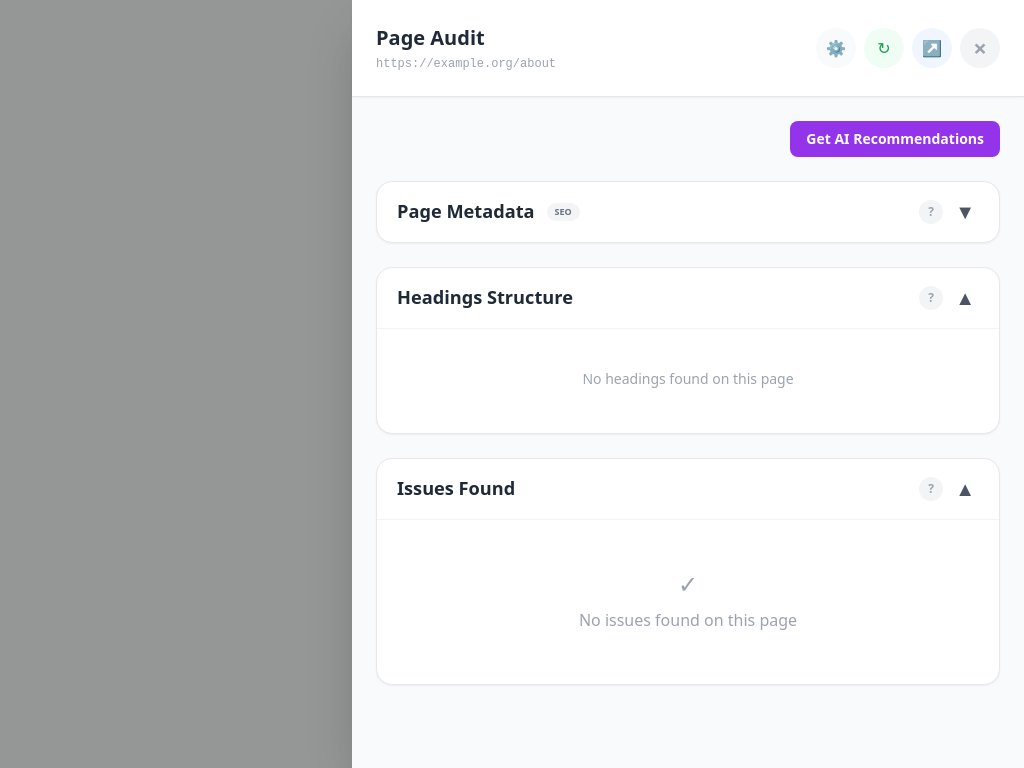
Scenario: D5 the re-check button reports its outcome › renders what the re-check resolved
Step 1. Click the button named "Re-check this page" → (884, 48), box [864,28,904,68]
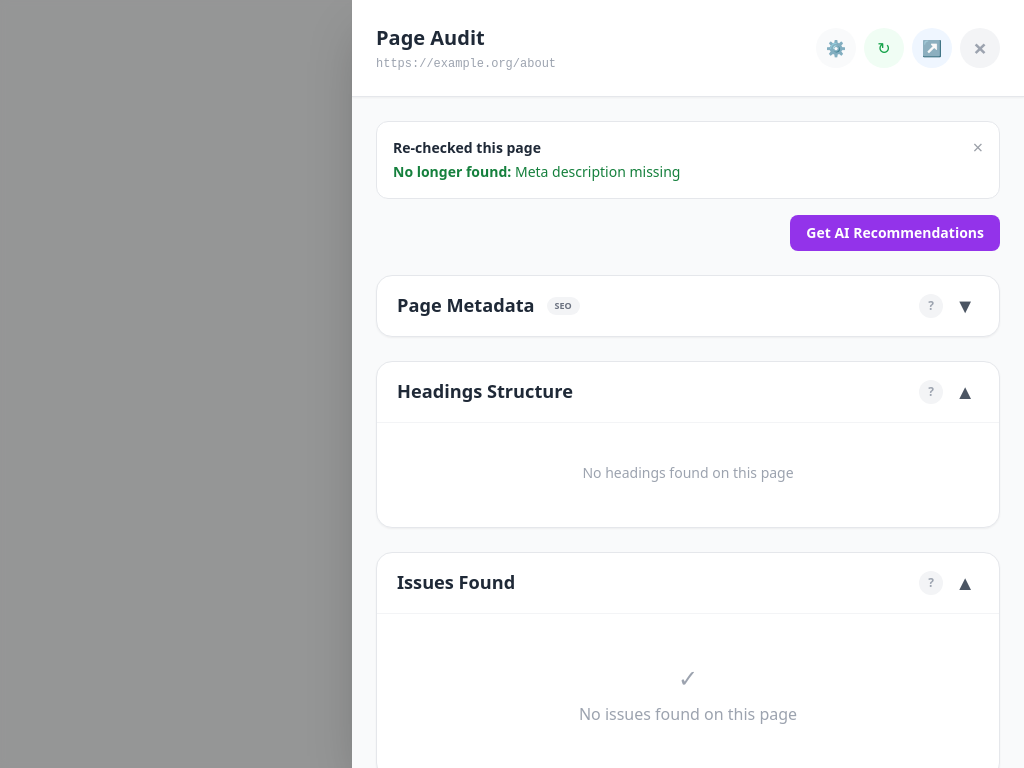
Result: the text "No longer found:" is shown at [393,162,511,181]
Result: the text "No longer found: Meta description missing" is shown at [393,162,680,182]
